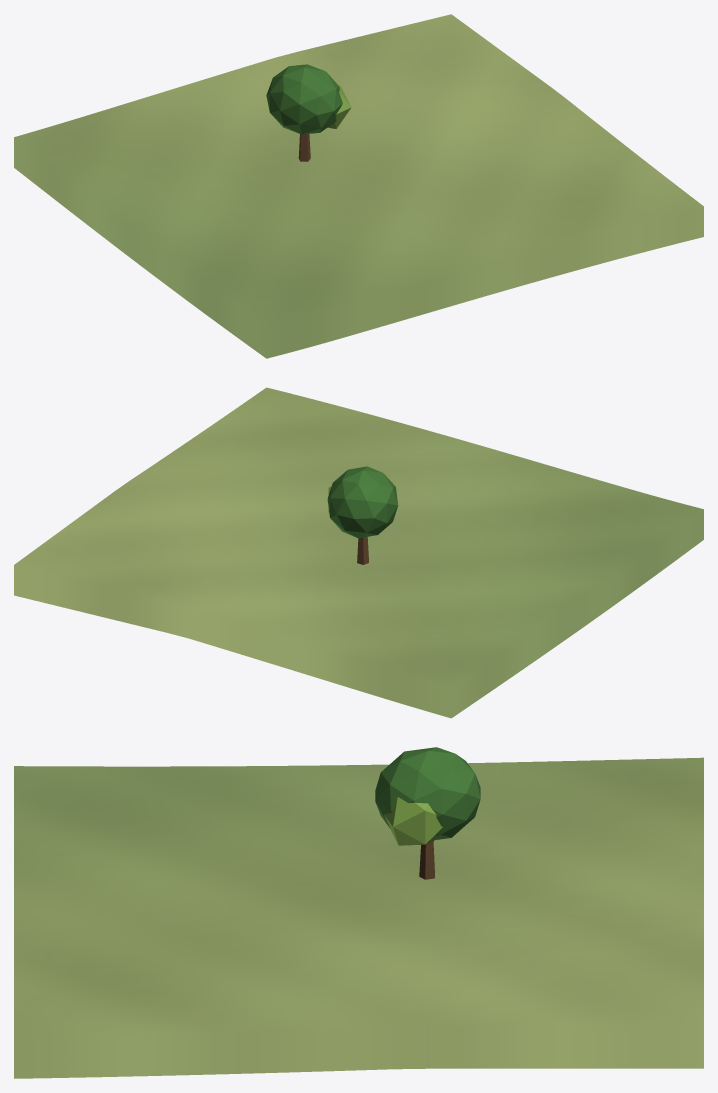
3 views of the same model, one above another, from view 1: azimuth 30°, elevation 25°; view 2: azimuth 150°, elevation 25°; view 3: azimuth 270°, elevation 25° (orthographic). The views are drawn at different scales.
Parts seen in each view (by area): view 1: terrain, scenery; view 2: terrain, scenery; view 3: terrain, scenery.
Part boxes in pixels (x1=…): terrain: x1=14, y1=14, x2=703, y2=358; scenery: x1=266, y1=64, x2=351, y2=161; terrain: x1=14, y1=387, x2=703, y2=718; scenery: x1=327, y1=466, x2=398, y2=564; terrain: x1=14, y1=757, x2=703, y2=1078; scenery: x1=375, y1=747, x2=480, y2=879.
Bounding box in the file's own units: 30 × 8.81 × 30.
